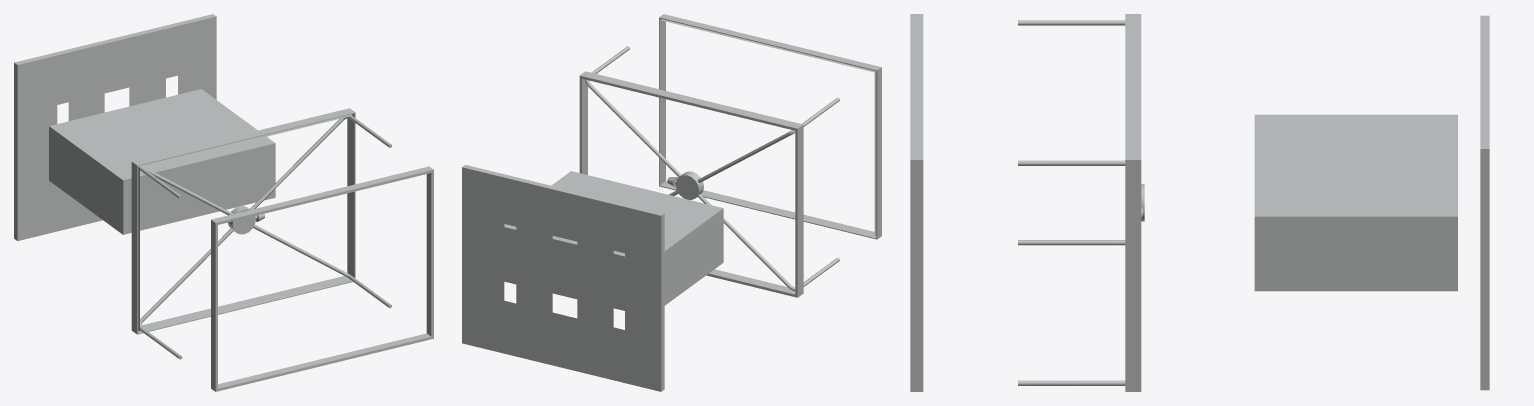
File: MeshDeskLamp_1_0_GeomSubset_1.obj
The picture shows the model from 3 angles, left to right: view 1: azimuth 30°, elevation 25°; view 2: azimuth 150°, elevation 25°; view 3: azimuth 270°, elevation 25°; orthographic projection. The views are drawn at different scales.
Visible parts, largest first — view 1: MeshDeskLamp_1_0_GeomSubset_1; view 2: MeshDeskLamp_1_0_GeomSubset_1; view 3: MeshDeskLamp_1_0_GeomSubset_1.
Part boxes in pixels (x1,y1,x2,y2): MeshDeskLamp_1_0_GeomSubset_1: (14, 14, 433, 391); MeshDeskLamp_1_0_GeomSubset_1: (462, 14, 881, 391); MeshDeskLamp_1_0_GeomSubset_1: (910, 14, 1489, 391).
Size of the model in its own units: 0.1831 by 0.1412 by 0.3226.
